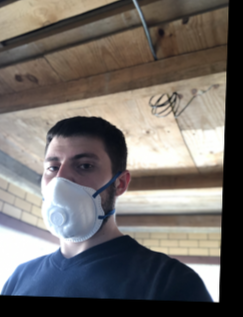with_mask: (40, 146, 110, 243)
